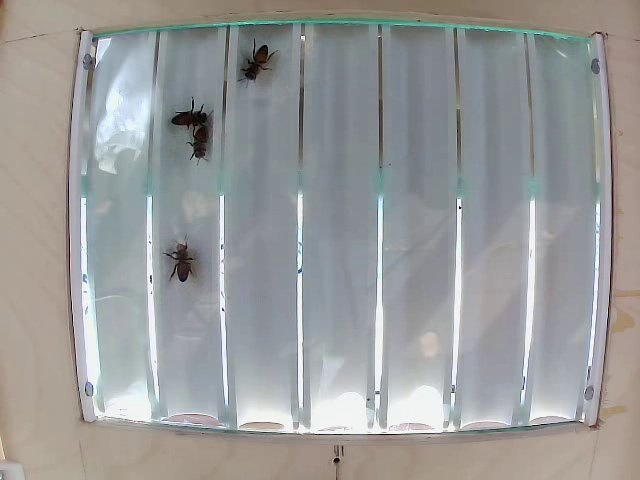bee: (169, 233, 205, 293), (238, 49, 282, 90), (195, 129, 216, 175), (172, 112, 213, 134)
